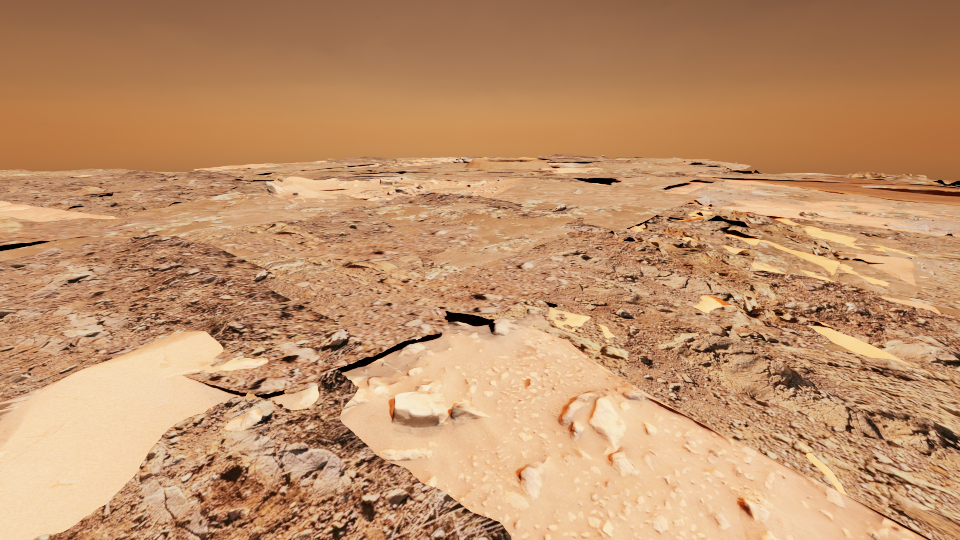bedrock: (313, 409, 808, 539), (512, 254, 959, 395), (0, 358, 100, 539), (546, 192, 959, 228), (246, 267, 370, 308), (511, 168, 805, 182), (723, 179, 959, 196), (48, 291, 117, 337), (816, 475, 865, 539), (353, 167, 513, 186), (0, 222, 143, 243), (628, 186, 785, 199), (741, 221, 862, 233), (868, 230, 959, 243), (132, 206, 209, 219), (350, 208, 420, 222), (544, 225, 588, 244), (275, 172, 353, 181), (474, 209, 509, 226), (270, 248, 325, 256), (248, 195, 308, 201), (433, 165, 463, 171), (670, 240, 693, 247), (490, 323, 524, 327), (227, 202, 255, 205), (484, 173, 517, 175), (277, 186, 296, 189), (520, 221, 537, 224), (571, 182, 592, 184)
rocks: (83, 267, 250, 360), (562, 215, 669, 258), (539, 256, 621, 293), (445, 247, 517, 280), (355, 230, 434, 257), (494, 208, 554, 240), (420, 203, 484, 231), (402, 158, 436, 171)
sand: (205, 293, 959, 539), (212, 207, 588, 297), (0, 241, 301, 337), (344, 175, 765, 217), (0, 179, 303, 222), (743, 191, 914, 206), (721, 290, 780, 309), (813, 285, 847, 306), (632, 211, 677, 224), (463, 165, 543, 171), (308, 269, 337, 282), (577, 316, 600, 329), (547, 176, 615, 180), (531, 218, 566, 225), (586, 168, 625, 173), (890, 276, 907, 282), (749, 252, 765, 258), (443, 178, 490, 180), (623, 179, 642, 181), (791, 316, 803, 319)
soil: (0, 330, 810, 539), (17, 168, 695, 307), (555, 211, 959, 281), (417, 172, 959, 194), (487, 187, 747, 216), (806, 461, 862, 523), (762, 287, 831, 305), (840, 301, 912, 312), (874, 195, 952, 202), (465, 206, 510, 216), (519, 208, 577, 215), (1, 226, 62, 232), (626, 169, 673, 175), (483, 166, 537, 169), (754, 198, 805, 201), (830, 212, 858, 217), (376, 164, 404, 169), (756, 218, 802, 221), (926, 228, 959, 232), (676, 191, 704, 195), (0, 275, 20, 280)
